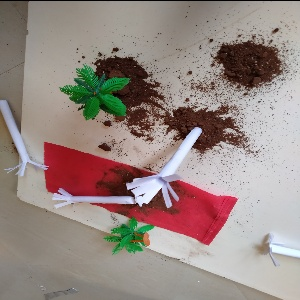plant: (59, 67, 134, 127), (106, 215, 174, 261)
weed: (118, 128, 200, 202), (1, 100, 44, 175), (48, 186, 133, 210)
